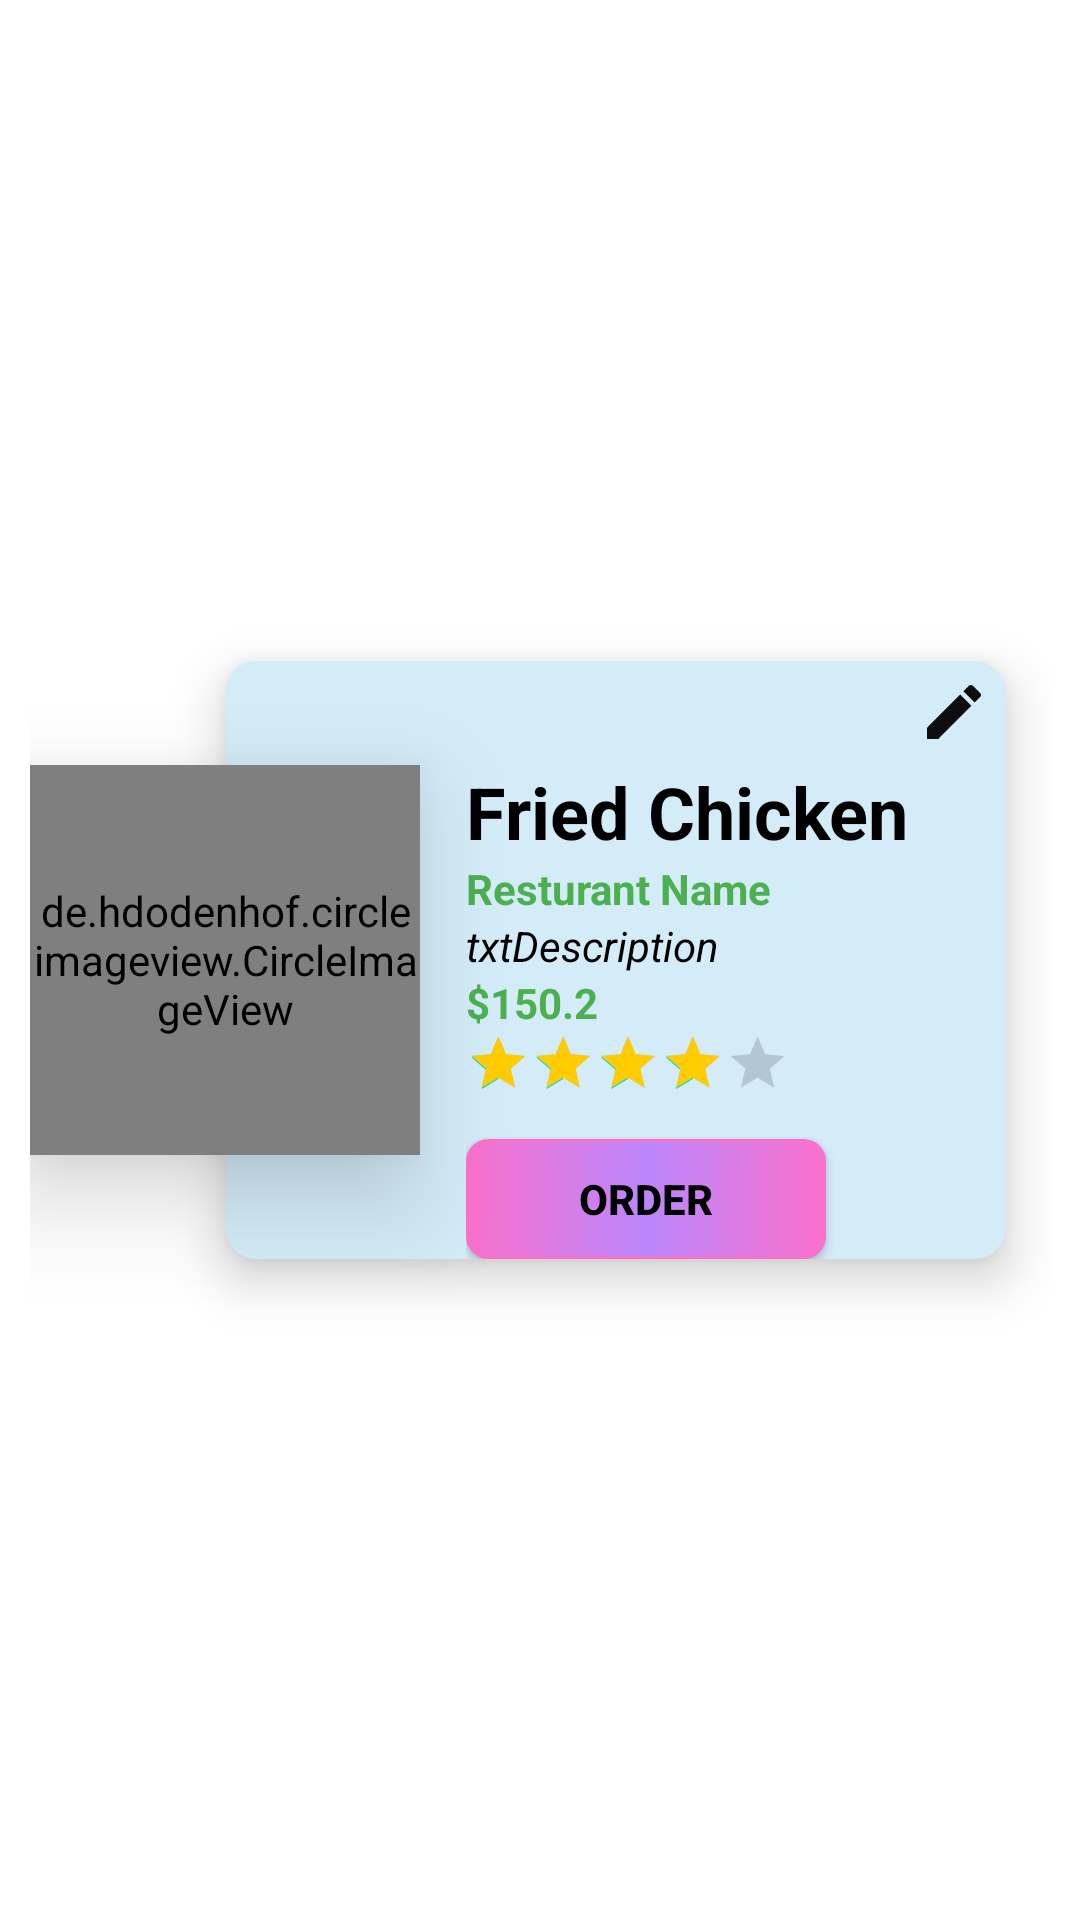

Named icons in this screenshot (1080*1920) and their centers, (x,y):
edit: (954,712)
